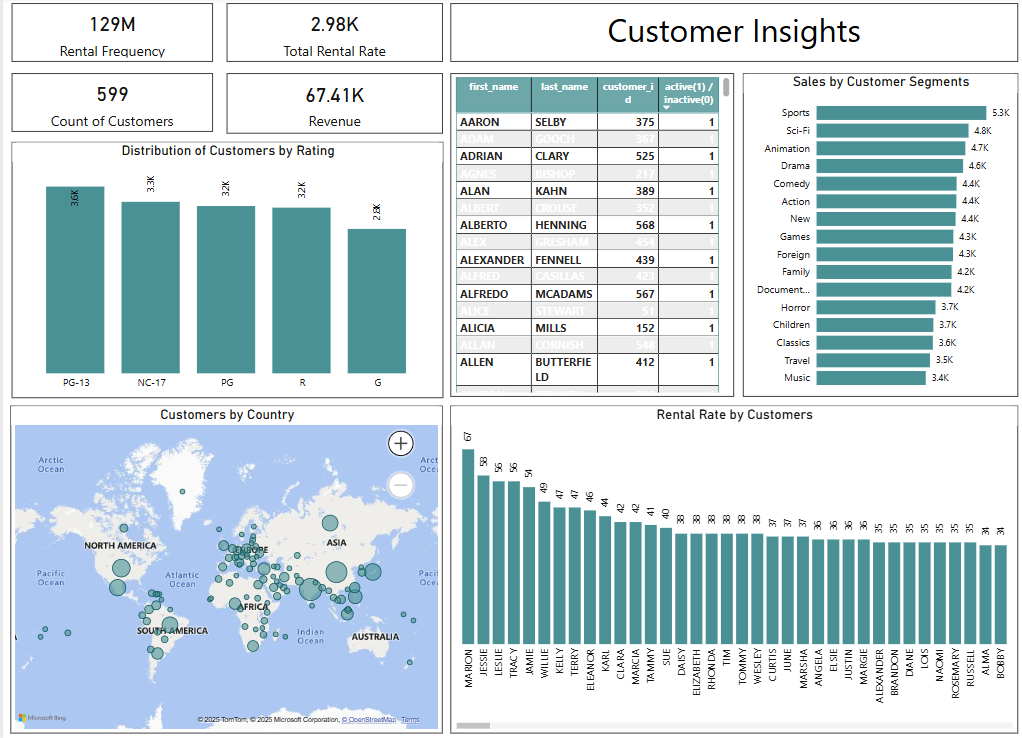

The page's visual inventory and layout, read from the dashboard file:
{"tool":"powerbi","page":{"name":"Customer Analysis","canvas":[1370,1000],"ordinal":2},"visuals":[{"type":"textbox","box":[599.9,8.4,760.7,78.8],"z":0},{"type":"tableEx","title":"Active/Inactive(1/0) Customer Details:","fields":{"Values":["customer.first_name","customer.last_name","customer.customer_id","Sum(customer.active)"]},"box":[599.9,102.2,380.4,434],"z":2000},{"type":"clusteredBarChart","fields":{"Category":["category.name"],"Y":["Sum(payment.amount)"]},"box":[992,102.2,368.6,434],"z":3000},{"type":"map","title":"Customers by Country","fields":{"Size":["CountNonNull(customer.customer_id)"],"Category":["country.country"]},"box":[10.8,548.7,579.6,438.9],"z":4000},{"type":"card","fields":{"Values":["CountNonNull(customer.customer_id)"]},"box":[11.7,102.2,269.8,78.8],"z":5000},{"type":"columnChart","title":"Rental Rate by Customers","fields":{"Category":["customer.first_name"],"Y":["CountNonNull(film.rental_rate)"]},"box":[599.7,548.7,760.4,438.9],"z":6000},{"type":"columnChart","title":"Distribution of Customers by Rating","fields":{"Category":["film.rating"],"Y":["CountNonNull(payment.customer_id)"]},"box":[11.7,194.4,578.1,343.5],"z":7000},{"type":"card","fields":{"Values":["payment.Revenue"]},"box":[299.9,102.2,289.9,80.4],"z":8000},{"type":"card","title":"Rental Frequency","fields":{"Values":["Sum(payment.payment_id)"]},"box":[11.7,8.4,269.8,78.8],"z":9000},{"type":"card","fields":{"Values":["Sum(film.rental_rate)"]},"box":[299.9,8.4,289.9,78.8],"z":10000}]}

Visuals, with their boxes in screenshot pixels (x1, y1, x2, y2), scaled from the page's 1370x1000 canvas onto the 1022x738 screenshot:
textbox: bbox=[448, 6, 1015, 64]
"Active/Inactive(1/0) Customer Details:" tableEx: bbox=[448, 75, 731, 396]
clusteredBarChart - category.name x Sum(payment.amount): bbox=[740, 75, 1015, 396]
"Customers by Country" map: bbox=[8, 405, 440, 729]
card - CountNonNull(customer.customer_id): bbox=[9, 75, 210, 134]
"Rental Rate by Customers" columnChart: bbox=[447, 405, 1015, 729]
"Distribution of Customers by Rating" columnChart: bbox=[9, 143, 440, 397]
card - payment.Revenue: bbox=[224, 75, 440, 135]
"Rental Frequency" card: bbox=[9, 6, 210, 64]
card - Sum(film.rental_rate): bbox=[224, 6, 440, 64]
